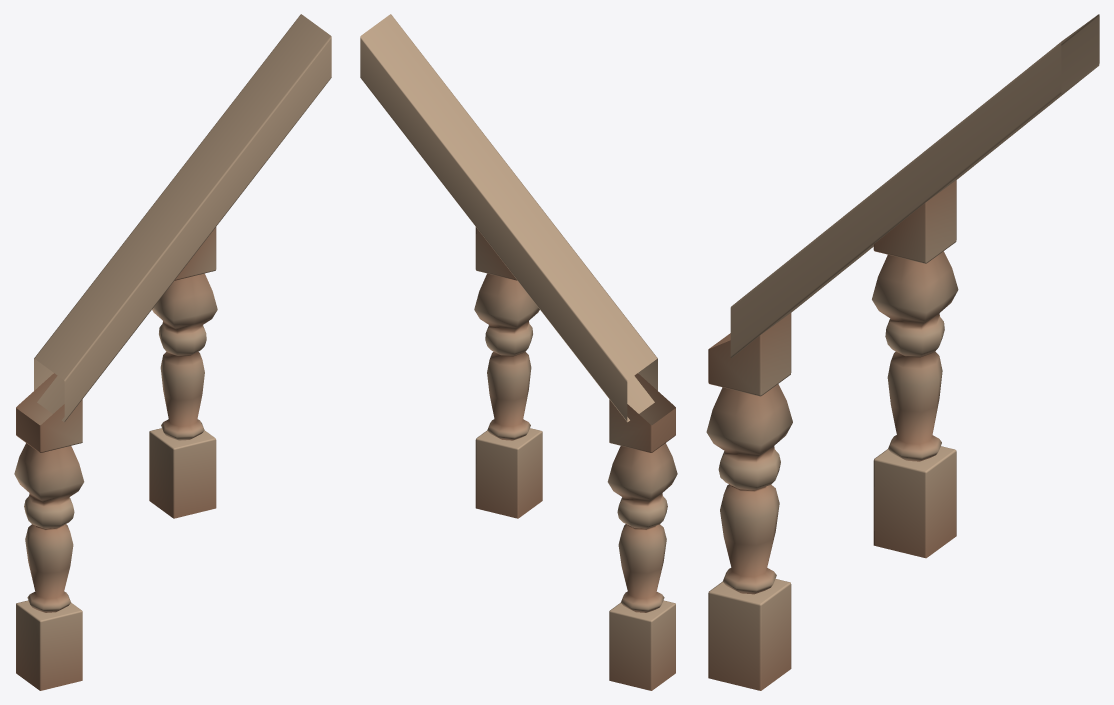
Rendered from Stairs_rail.fbx.
3 views of the same model, side by side, from view 1: azimuth 30°, elevation 25°; view 2: azimuth 150°, elevation 25°; view 3: azimuth 330°, elevation 25° (orthographic). The views are drawn at different scales.
Visible parts, largest first — view 1: Fence_stair_top.001; view 2: Fence_stair_top.001; view 3: Fence_stair_top.001.
Part boxes in pixels (x1,y1,x2,y2): Fence_stair_top.001: (14, 14, 331, 690); Fence_stair_top.001: (360, 14, 677, 690); Fence_stair_top.001: (706, 14, 1099, 690).
Size of the model in its own units: 218 by 420 by 40.
